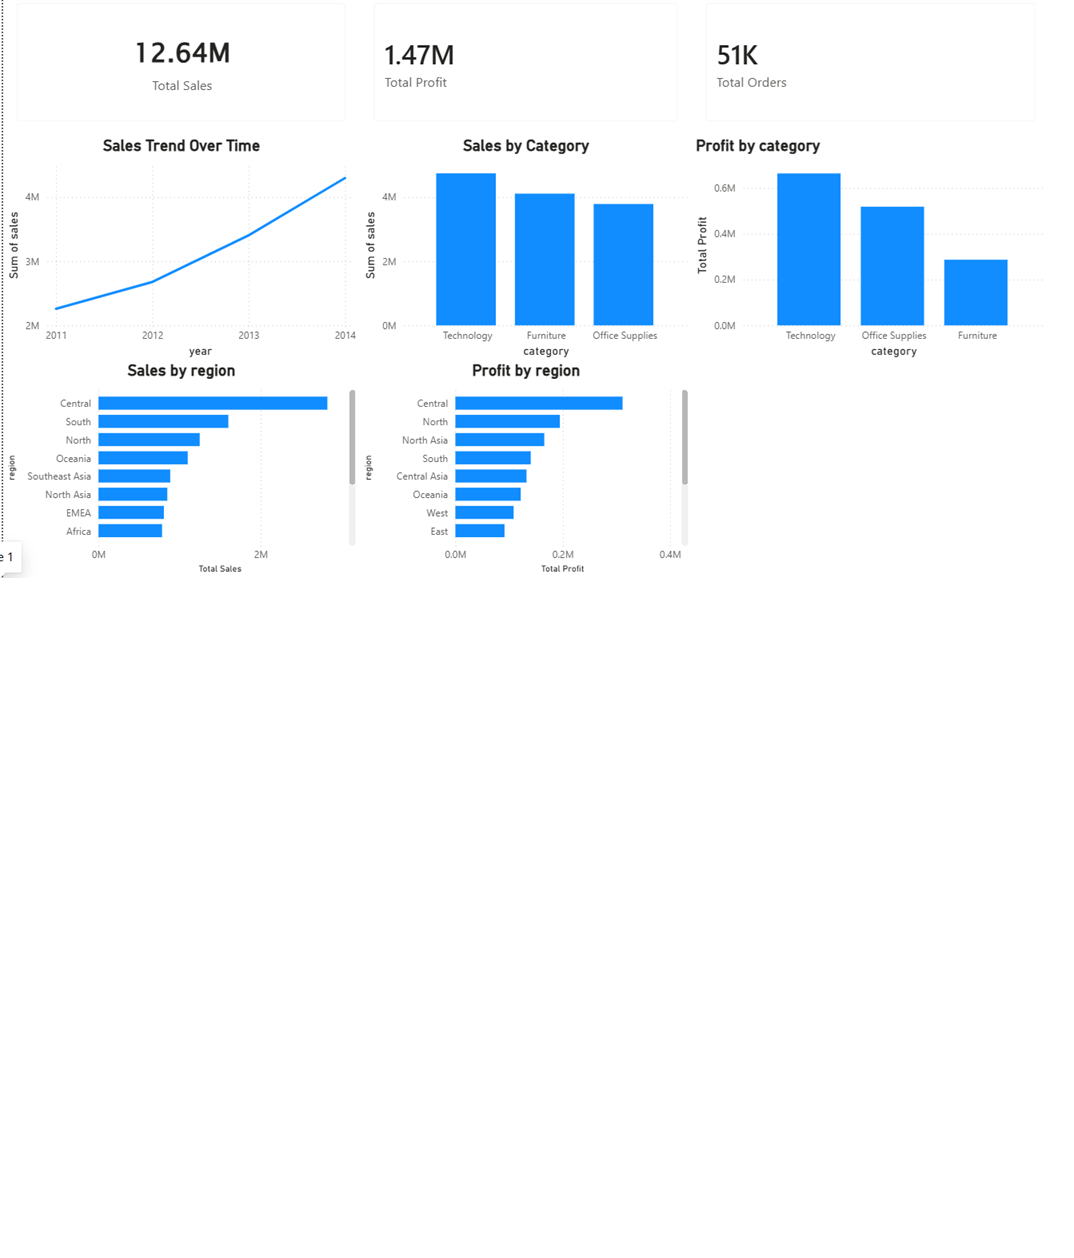

The page's visual inventory and layout, read from the dashboard file:
{"tool":"powerbi","page":{"name":"Global Superstore Sales & Profitability Analysis","canvas":[1280,720],"ordinal":0},"visuals":[{"type":"cardVisual","fields":{"Data":["superstore_clean.Total Sales"]},"box":[0,0,436.4,179.2],"z":0},{"type":"cardVisual","fields":{"Data":["superstore_clean.Total Profit"]},"box":[436.4,0,406.5,179.2],"z":1000},{"type":"cardVisual","fields":{"Data":["superstore_clean.Total Orders"]},"box":[842.9,0,437.7,179.2],"z":2000},{"type":"lineChart","title":"Sales Trend Over Time","fields":{"Category":["superstore_clean.year"],"Y":["Sum(superstore_clean.sales)"]},"box":[0,179.2,436.4,275.3],"z":3000},{"type":"clusteredColumnChart","title":"Sales by Category","fields":{"Category":["superstore_clean.category"],"Y":["Sum(superstore_clean.sales)"]},"box":[436.4,179.2,406.5,275.3],"z":4000},{"type":"clusteredColumnChart","title":"Profit by category","fields":{"Category":["superstore_clean.category"],"Y":["superstore_clean.Total Profit"]},"box":[842.9,179.2,436.4,275.3],"z":5000},{"type":"clusteredBarChart","title":"Sales by region","fields":{"Category":["superstore_clean.region"],"Y":["superstore_clean.Total Sales"]},"box":[0,454.5,436.4,264.9],"z":6000},{"type":"clusteredBarChart","title":"Profit by region","fields":{"Category":["superstore_clean.region"],"Y":["superstore_clean.Total Profit"]},"box":[436.4,454.5,406.5,264.9],"z":7000}]}

Visuals, with their boxes on the page's 1280x720 design canvas (x1, y1, x2, y2). These are canvas units, not pixel positions in the 1074x1258 screenshot, which may show the page scaled, cropped or inside an application window:
cardVisual - superstore_clean.Total Sales: (0,0,436,179)
cardVisual - superstore_clean.Total Profit: (436,0,843,179)
cardVisual - superstore_clean.Total Orders: (843,0,1281,179)
"Sales Trend Over Time" lineChart: (0,179,436,454)
"Sales by Category" clusteredColumnChart: (436,179,843,454)
"Profit by category" clusteredColumnChart: (843,179,1279,454)
"Sales by region" clusteredBarChart: (0,454,436,719)
"Profit by region" clusteredBarChart: (436,454,843,719)
